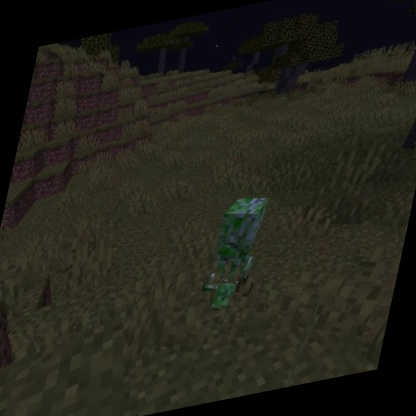creeper: (193, 189, 275, 320)
